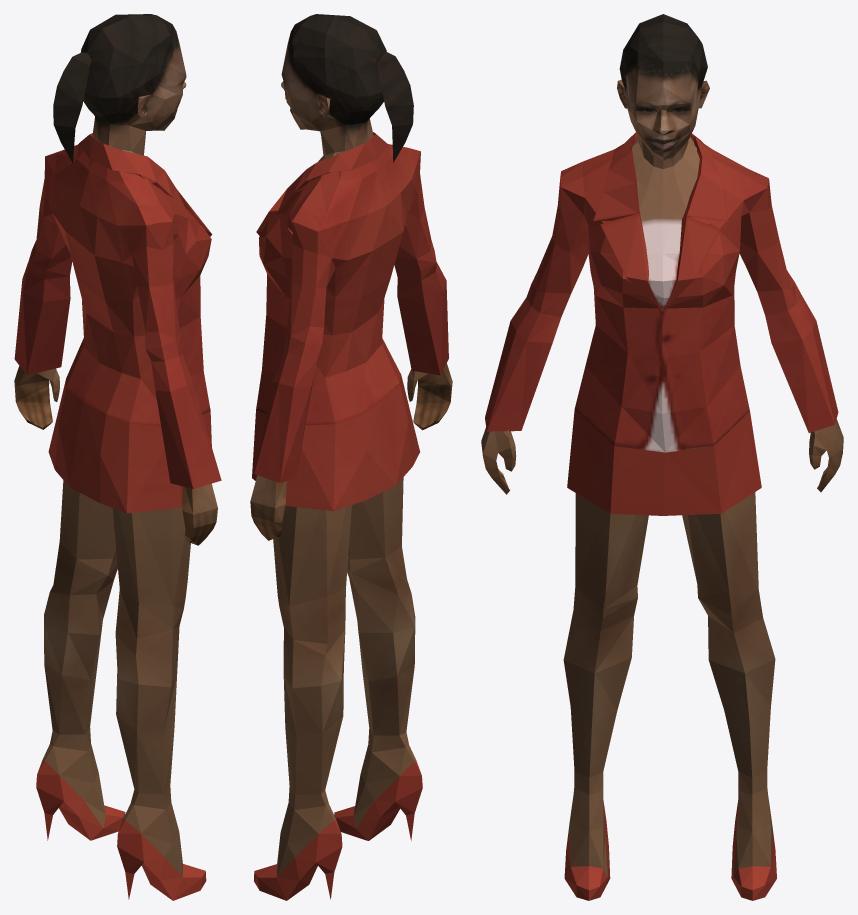
File: sbfyri.obj
3 views of the same model, side by side, from view 1: azimuth 30°, elevation 25°; view 2: azimuth 150°, elevation 25°; view 3: azimuth 270°, elevation 25° (orthographic). The views are drawn at different scales.
Parts seen in each view (by area): view 1: _Pelvis; view 2: _Pelvis; view 3: _Pelvis.
Boxes of the visible parts, left/top/right/bottom form: _Pelvis: left=14, top=14, right=221, bottom=900; _Pelvis: left=250, top=14, right=452, bottom=900; _Pelvis: left=481, top=14, right=843, bottom=900.
Size of the model in its own units: 0.3189 by 1.8 by 0.6856.
1 material, 1 textured.
